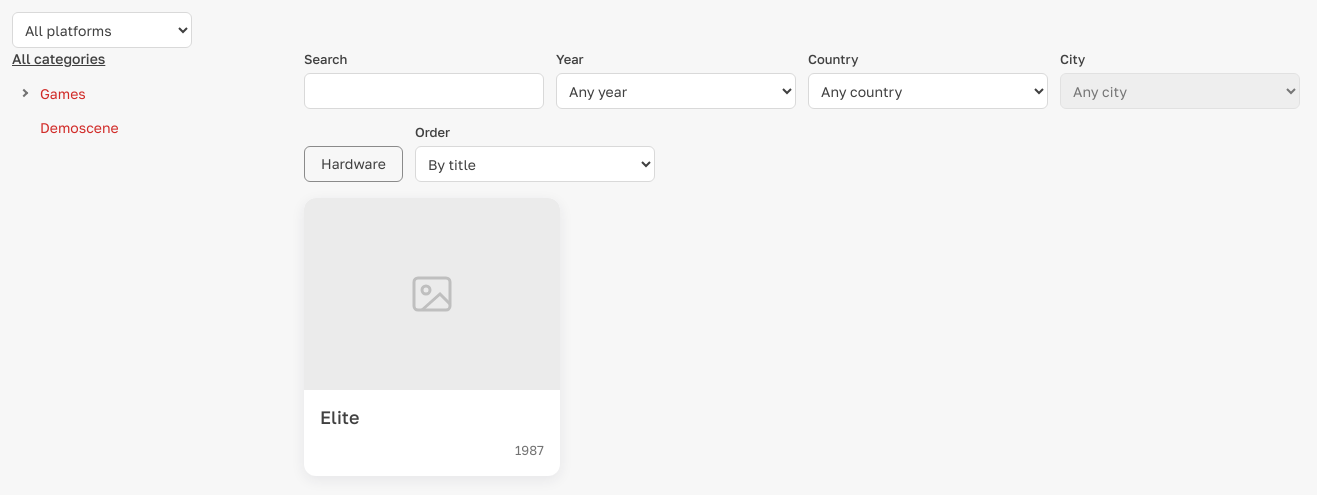
SoftwareCatalog › unfolds a category to its subcategories
Click the button named "Expand Games" at (24,93), box left=12, top=81, right=36, bottom=105
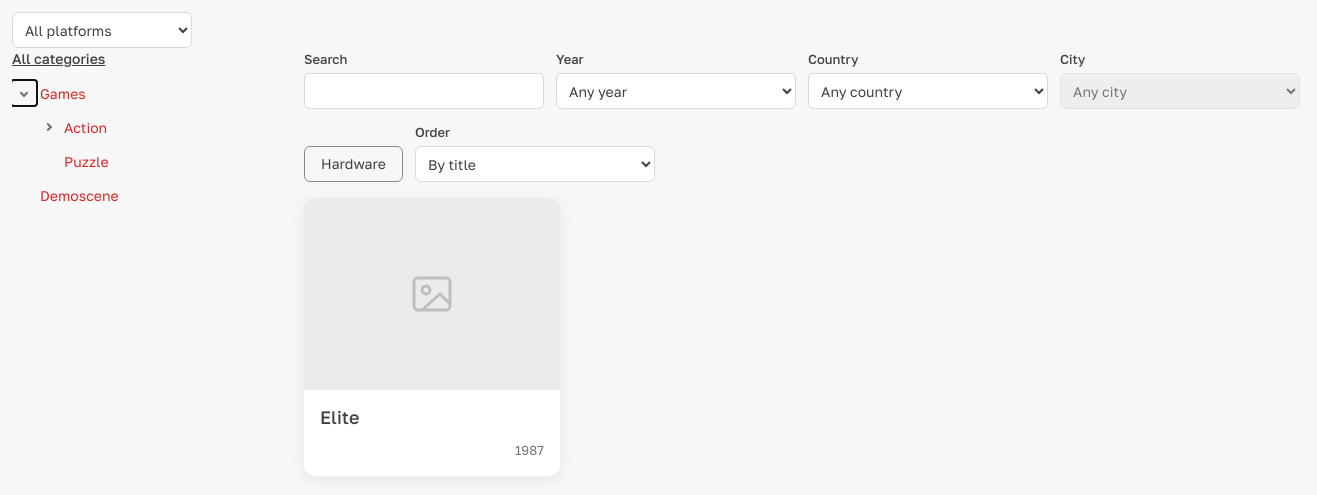
Result: the link "Puzzle" is shown at left=64, top=150, right=108, bottom=172
